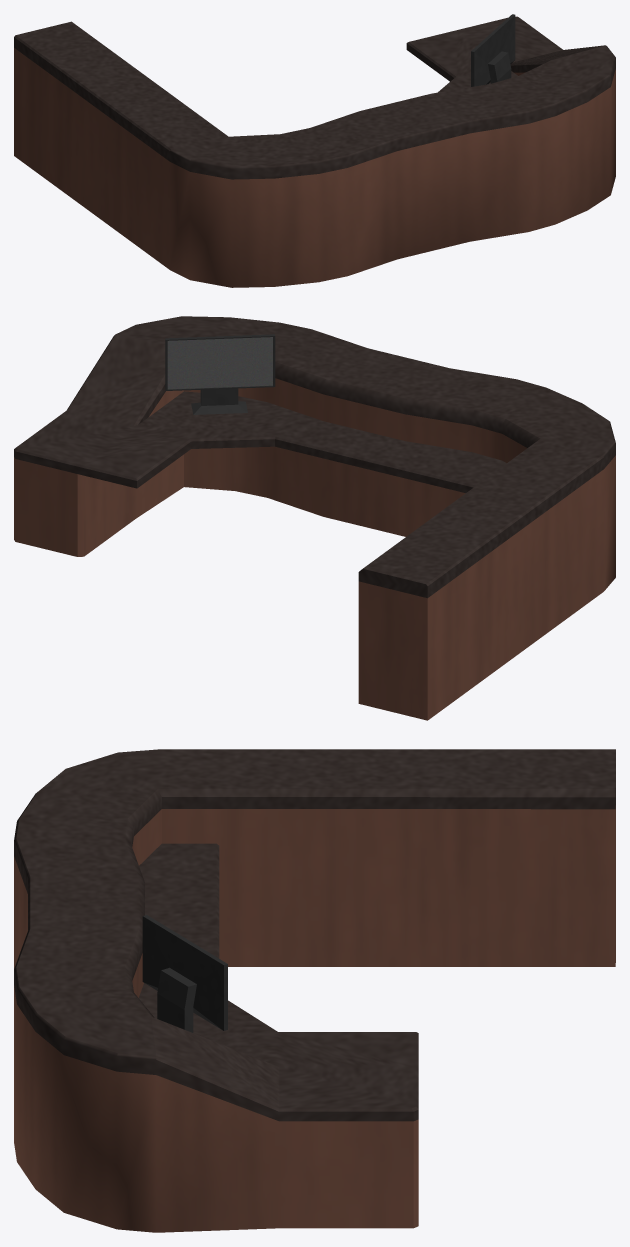
Rendered from ReceptionDesk.fbx.
3 renders of one model, top to bottom at view 1: azimuth 30°, elevation 25°; view 2: azimuth 150°, elevation 25°; view 3: azimuth 270°, elevation 25°, orthographic. The views are drawn at different scales.
Visible parts, largest first — view 1: ReceptionDesk_Placeholder, ComputerScreen; view 2: ReceptionDesk_Placeholder, ComputerScreen; view 3: ReceptionDesk_Placeholder, ComputerScreen.
Part boxes in pixels (x1=…): ReceptionDesk_Placeholder: x1=14, y1=16, x2=615, y2=287; ComputerScreen: x1=471, y1=14, x2=515, y2=86; ReceptionDesk_Placeholder: x1=14, y1=316, x2=615, y2=720; ComputerScreen: x1=165, y1=334, x2=275, y2=414; ReceptionDesk_Placeholder: x1=14, y1=749, x2=615, y2=1232; ComputerScreen: x1=142, y1=915, x2=227, y2=1032.
Size of the model in its own units: 398 by 131 by 327.
Materials: 1 (1 with a texture image).
